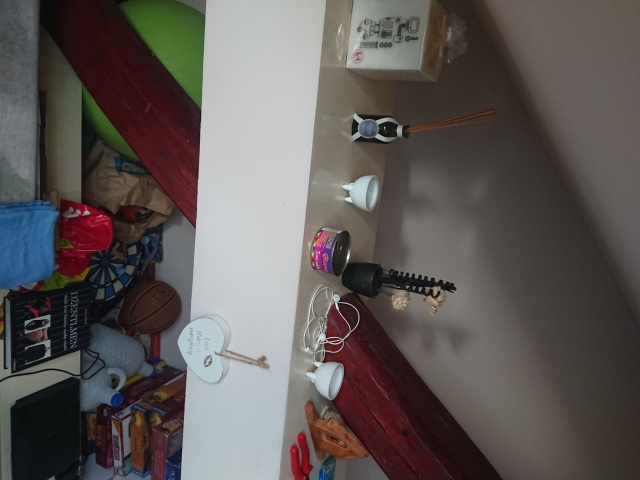Giana Tuna Salad Mexico 185g: (307, 224, 354, 279)
